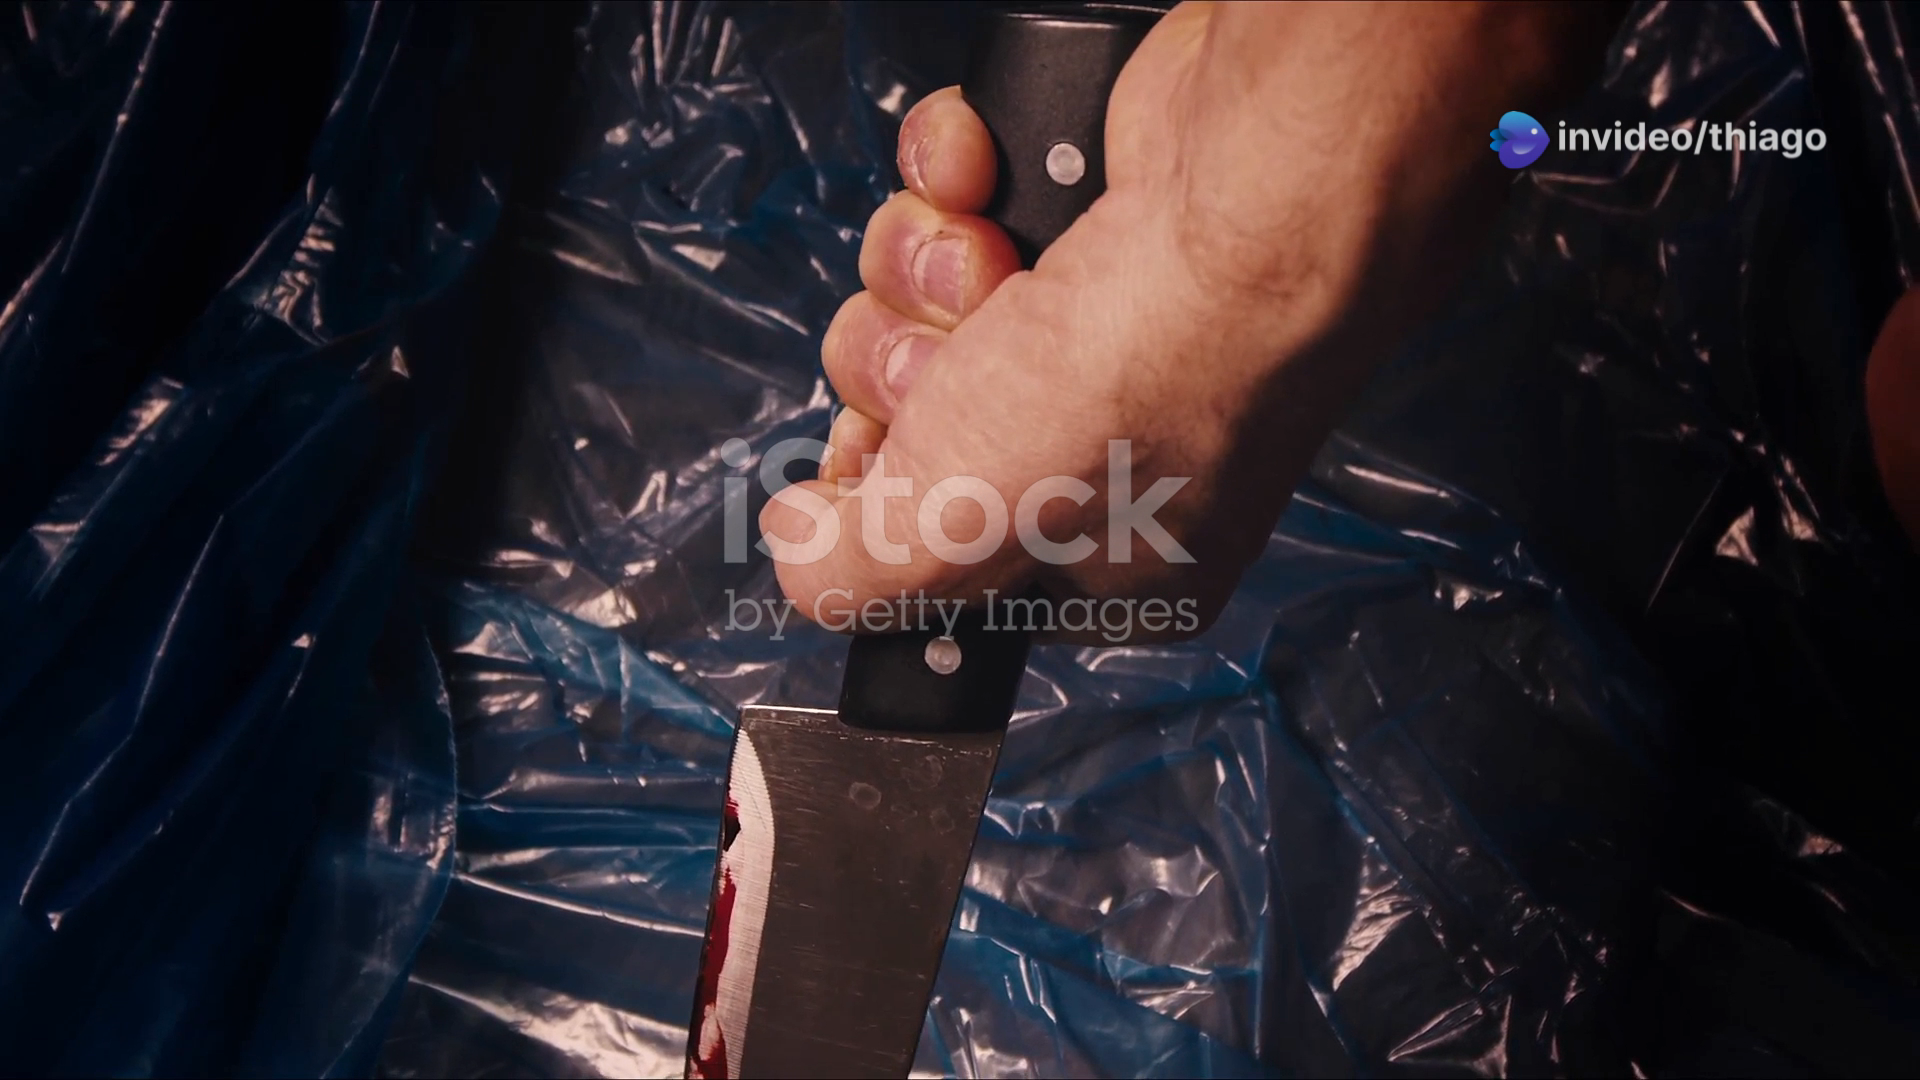cortante: (679, 702, 1007, 1080)
